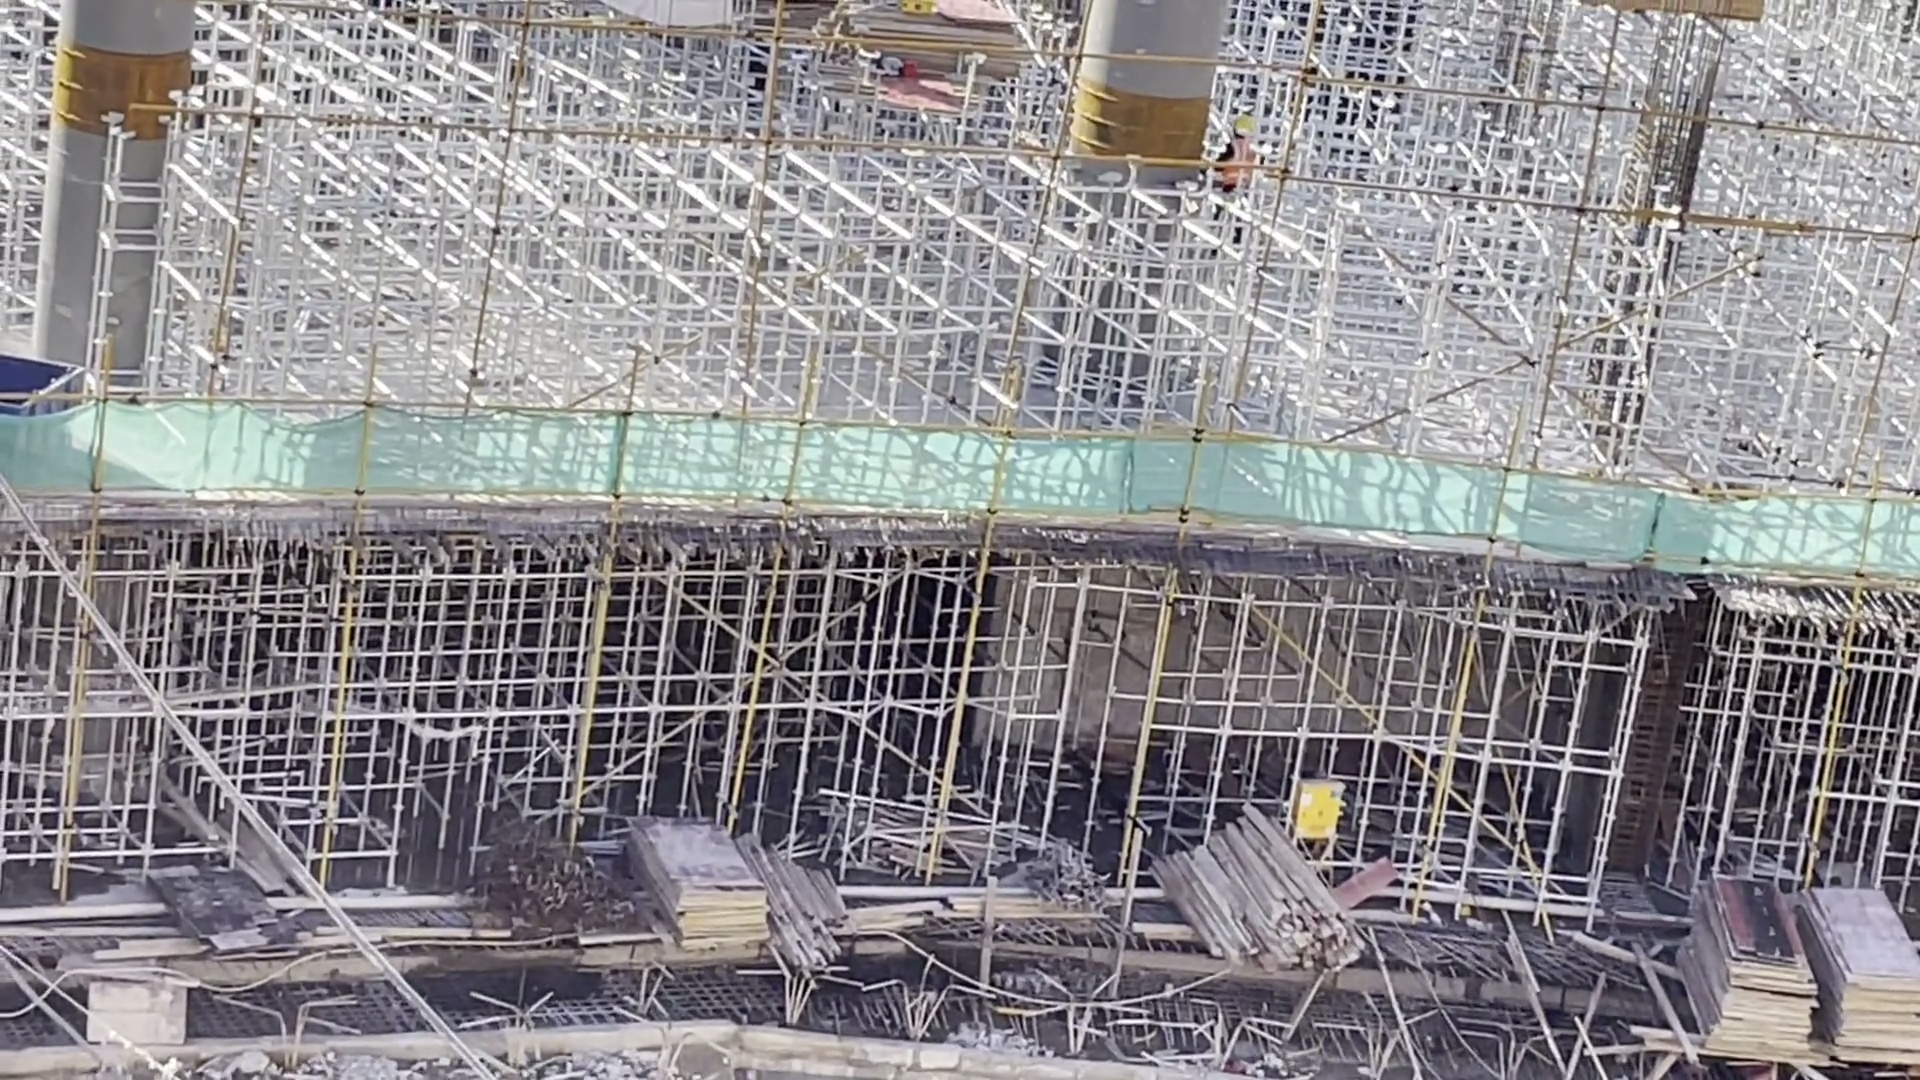board: (1672, 856, 1808, 1051), (1803, 865, 1920, 1058), (627, 814, 771, 958), (831, 1, 1040, 87)
ebox: (1292, 773, 1345, 863)
helmet: (1222, 105, 1258, 137)
hopper: (1, 343, 94, 419)
person: (1205, 104, 1260, 243)
vest: (1214, 134, 1255, 202)
wood: (1147, 798, 1352, 973)
